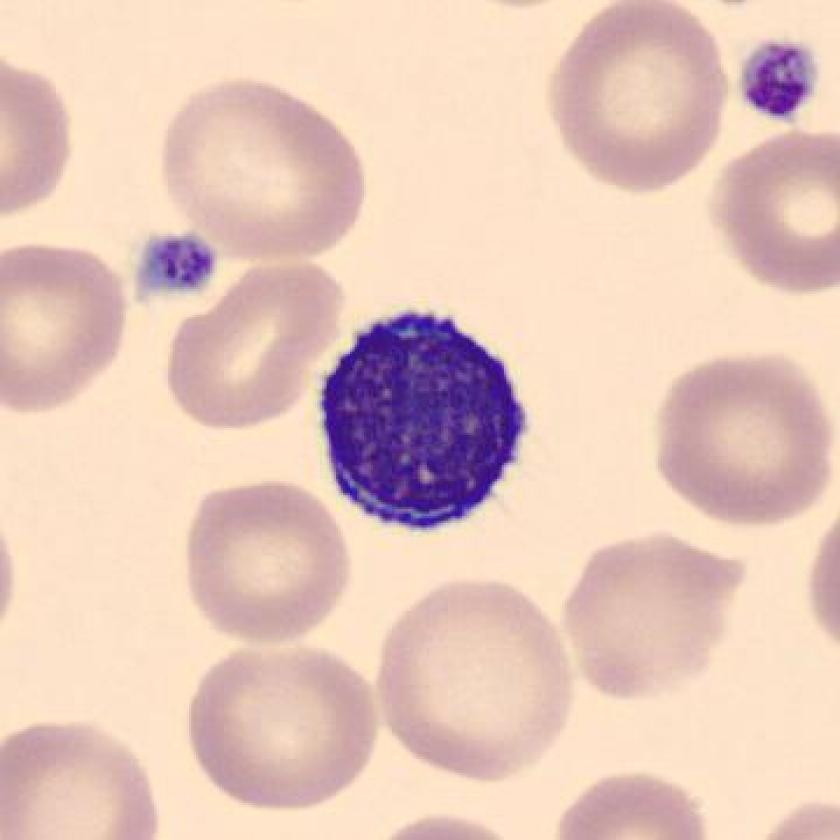lymphocyte: (302, 297, 545, 547)
